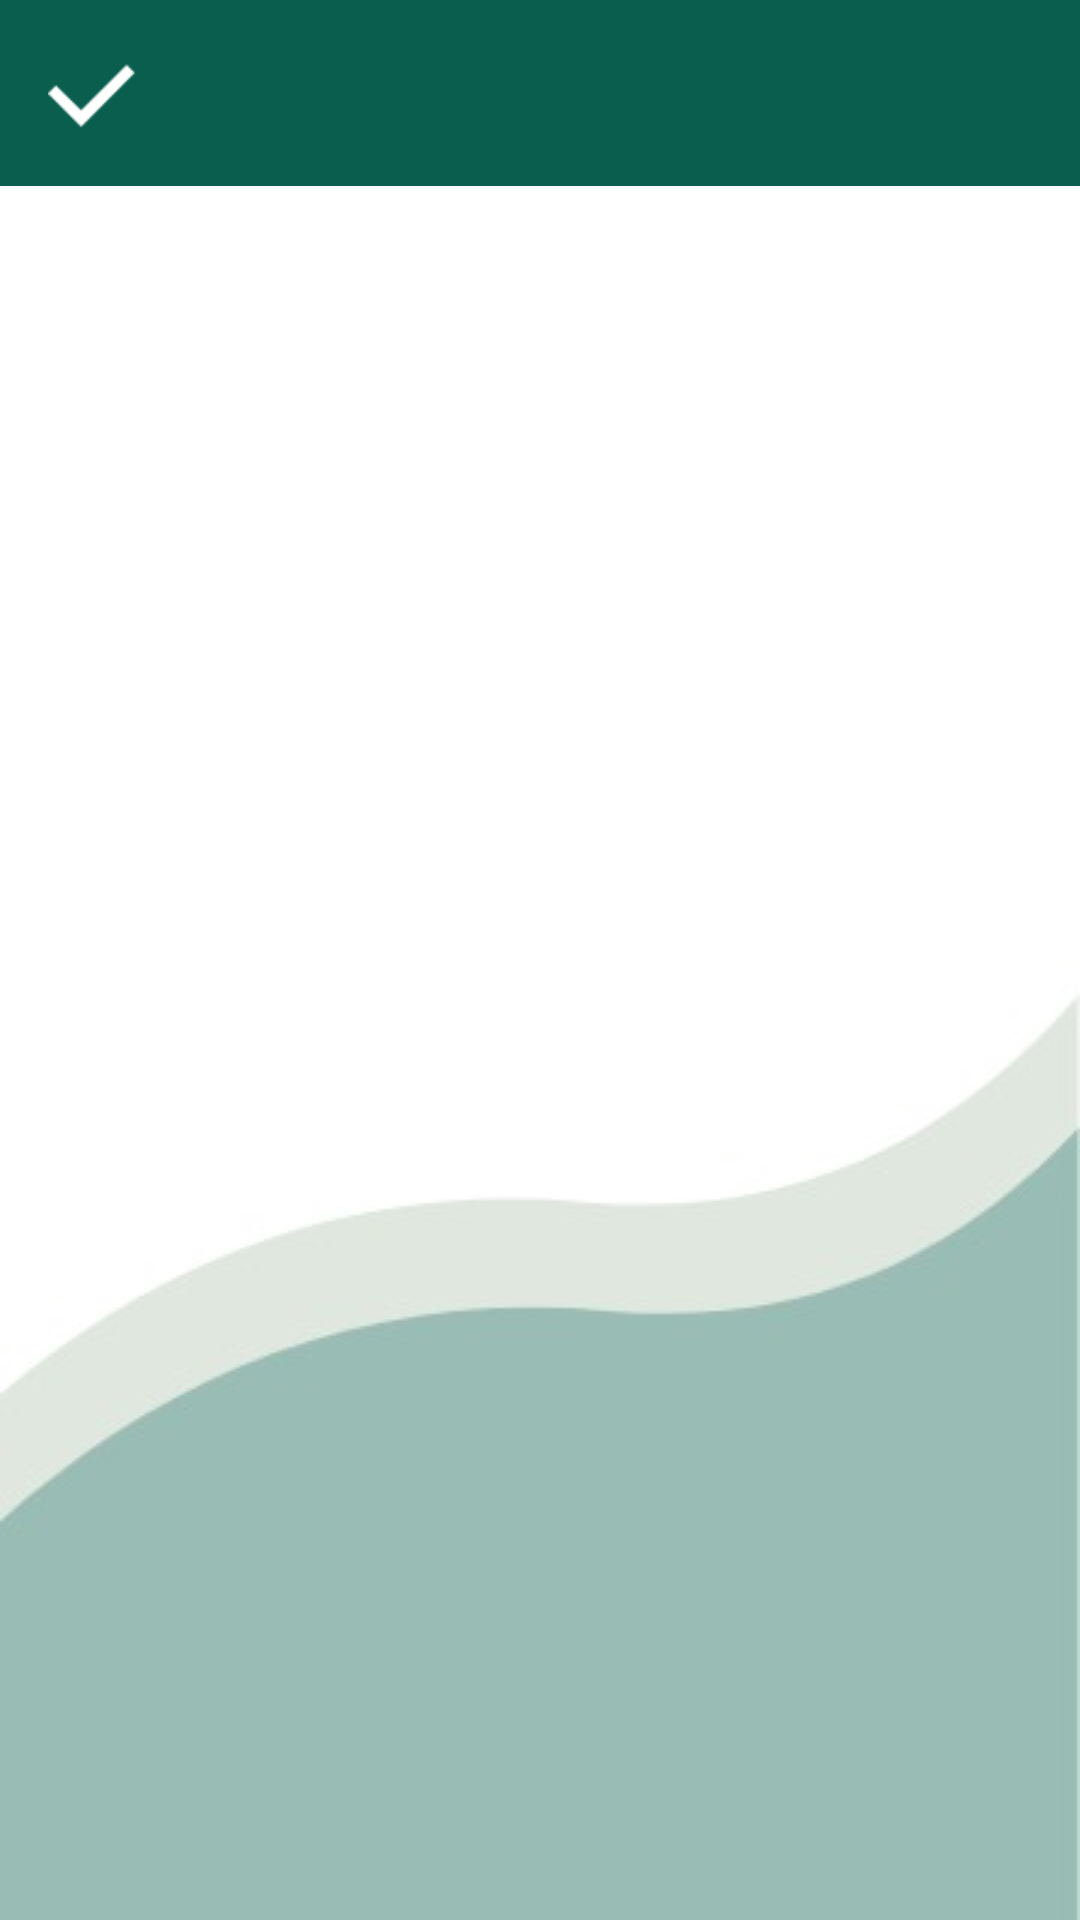

Named icons in this screenshot (1080 x 1920) and their centers, (x=x, y=y):
right: (x=91, y=95)
